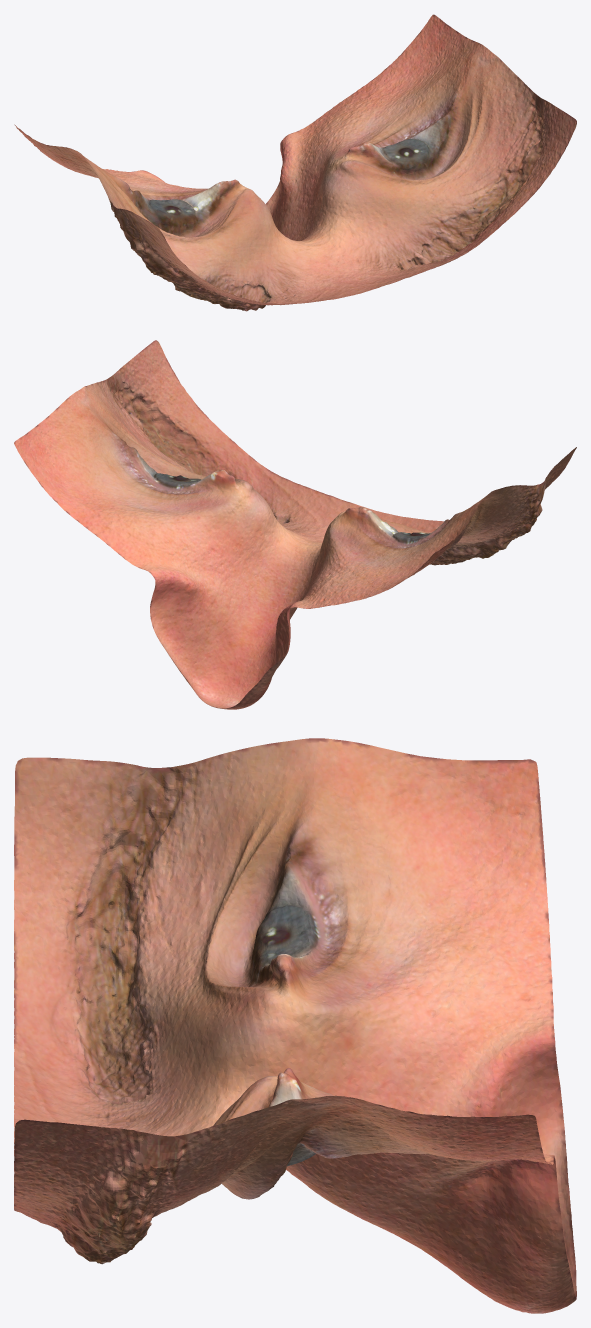
File: Face Simplified Color 3D Scan mm.obj
3 views of the same model, one above another, from view 1: azimuth 30°, elevation 25°; view 2: azimuth 150°, elevation 25°; view 3: azimuth 270°, elevation 25° (orthographic). The views are drawn at different scales.
Bounding box in the file's own units: 119 × 58.19 × 75.65.
Materials: 1 (1 with a texture image).
